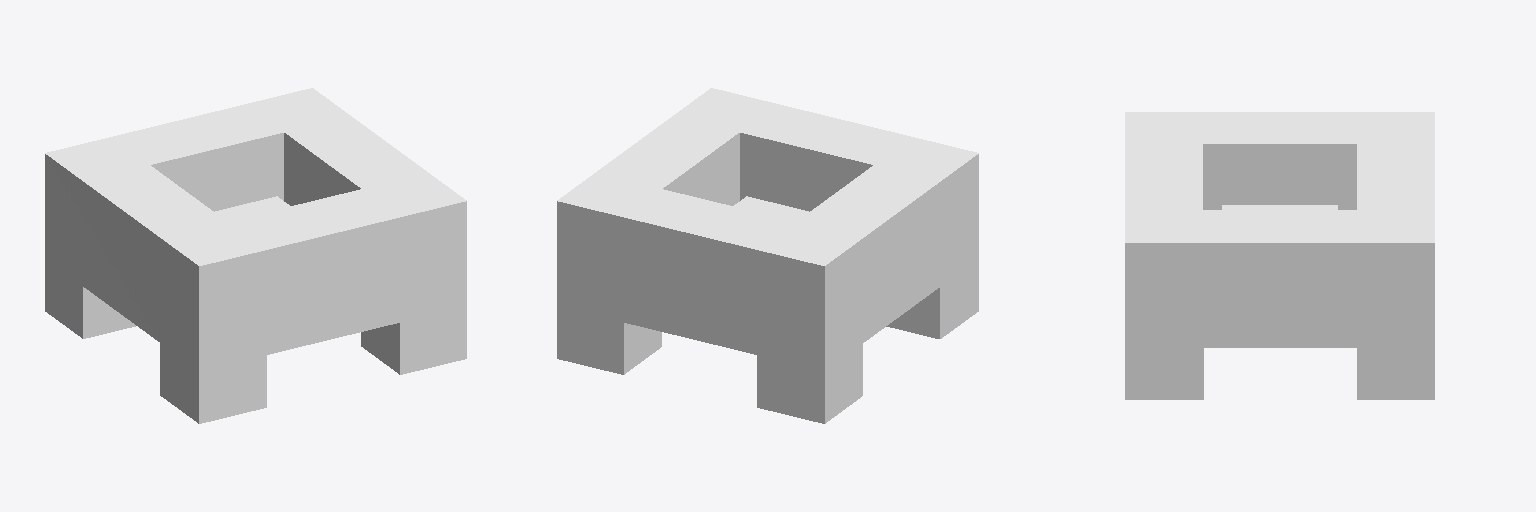
File: programming.obj
3 renders of one model, left to right at view 1: azimuth 30°, elevation 25°; view 2: azimuth 150°, elevation 25°; view 3: azimuth 270°, elevation 25°, orthographic.
Visible parts, largest first — view 1: Cube_Cube.001; view 2: Cube_Cube.001; view 3: Cube_Cube.001.
Boxes of the visible parts, x1=… form: Cube_Cube.001: x1=45, y1=88, x2=466, y2=423; Cube_Cube.001: x1=557, y1=88, x2=978, y2=423; Cube_Cube.001: x1=1125, y1=112, x2=1434, y2=399.
Size of the model in its own units: 1 by 0.5625 by 1.